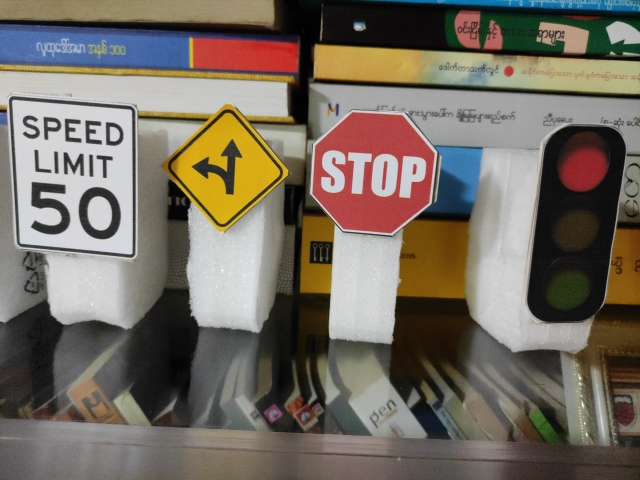Red Traffic Light: (526, 122, 626, 324)
Speed Limit 50: (6, 93, 140, 260)
Stop Sign: (308, 109, 441, 237)
Straight Or Left Sign: (166, 108, 287, 229)
